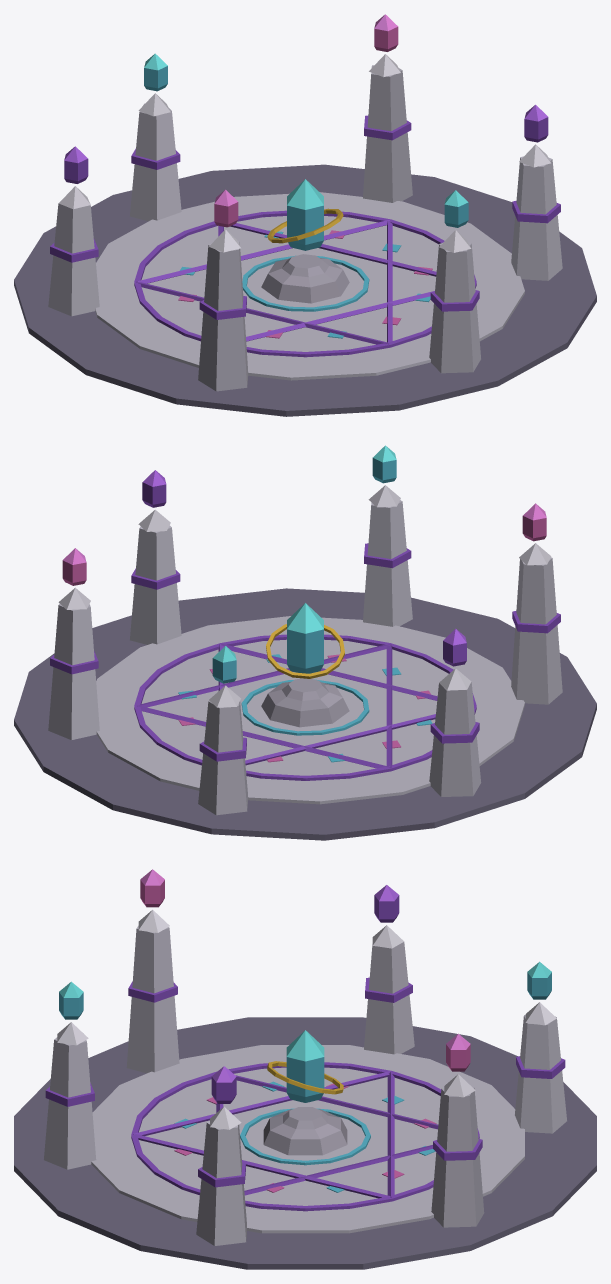
File: Decor_WizardTower_Circle.fbx
The picture shows the model from 3 angles, top to bottom: view 1: azimuth 30°, elevation 25°; view 2: azimuth 150°, elevation 25°; view 3: azimuth 270°, elevation 25°; orthographic projection.
Visible parts, largest first — view 1: Circle_Body; view 2: Circle_Body; view 3: Circle_Body.
Part boxes in pixels (left/top/right/bottom): Circle_Body: left=14, top=14, right=596, bottom=416; Circle_Body: left=14, top=445, right=596, bottom=840; Circle_Body: left=14, top=869, right=596, bottom=1269.
Size of the model in its own units: 34 by 12.9 by 34.
